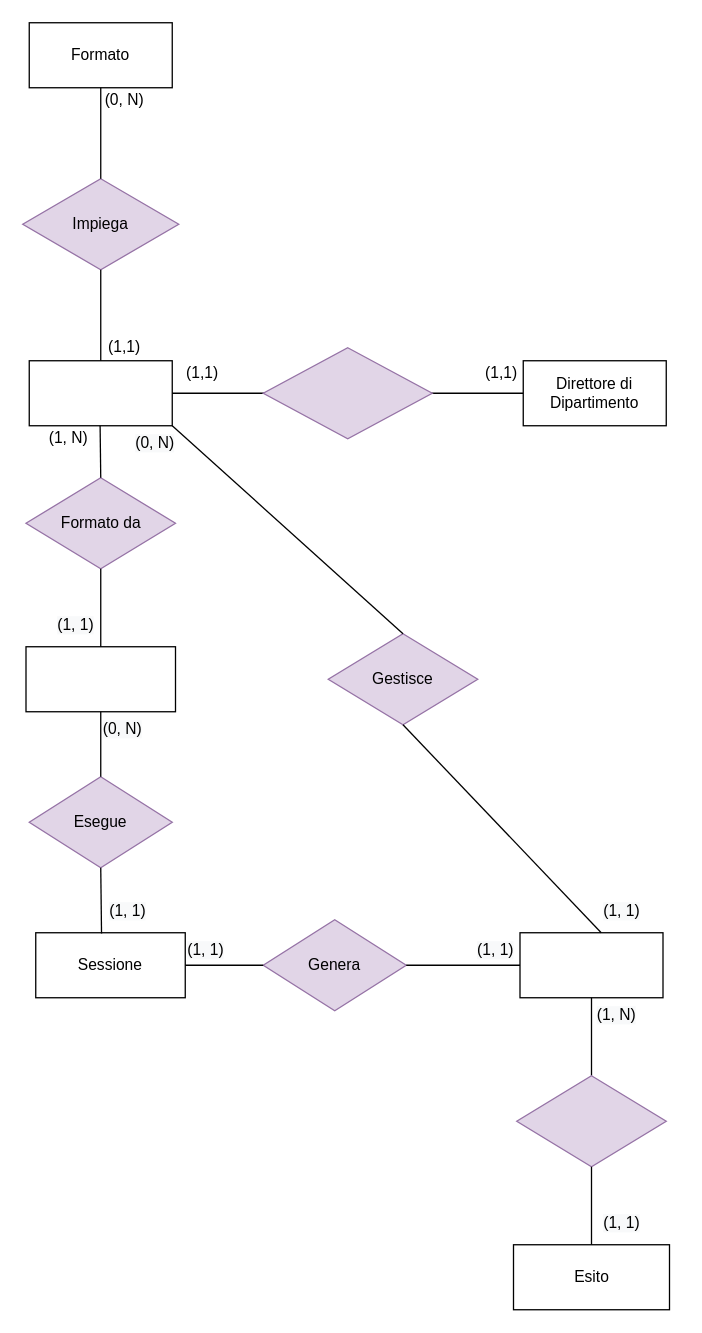
This 702x1333 diagram has some shape labels left out. The shapes that lost their labels are listed below. From the top down, each one's centre as x and y in pixels, then its label:
(100,392): Dipartimento
(347,392): Composto da
(100,678): Docente
(591,964): Report
(590,1120): Contiene
